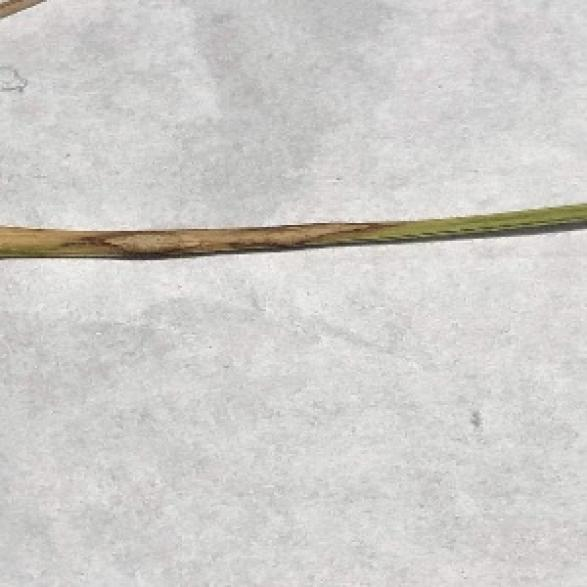Leaf_smut: (47, 208, 517, 258)
